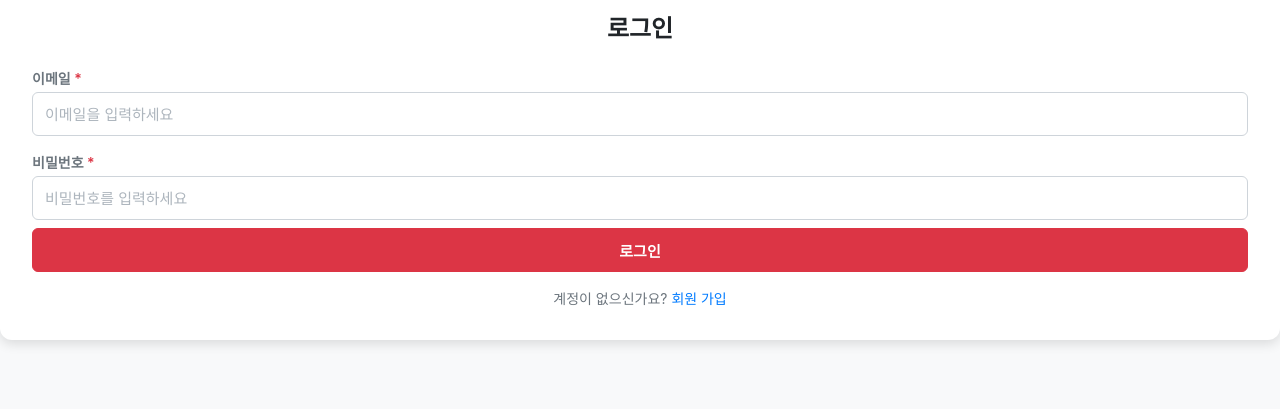
it: LoginForm › 빈 폼 제출 시 에러 메시지가 표시된다
This screenshot has width=1280, height=409.
Click the button "로그인".
click(640, 250)  # box [32, 228, 1248, 272]
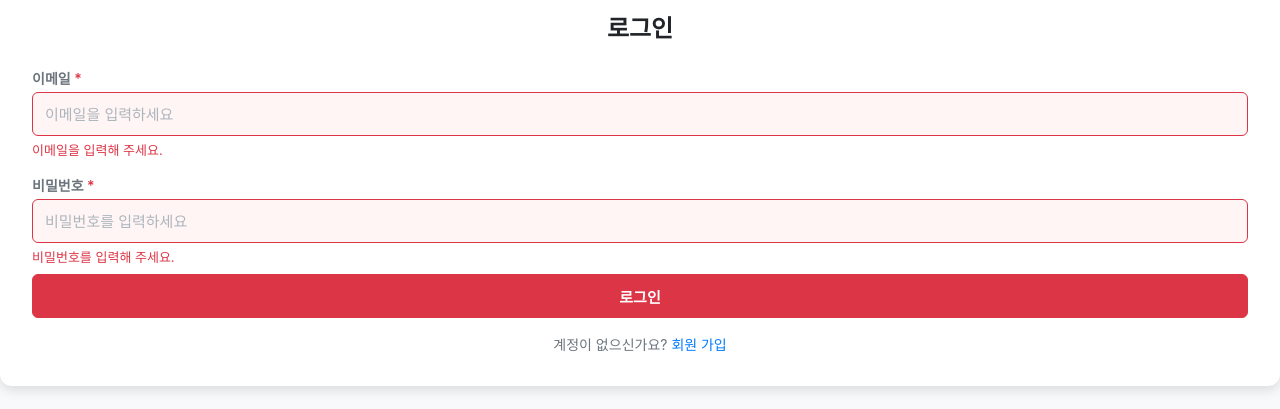
Expected: the text "이메일을 입력해 주세요." is shown, [32, 142, 163, 158]
Expected: the text "비밀번호를 입력해 주세요." is shown, [32, 249, 175, 265]
